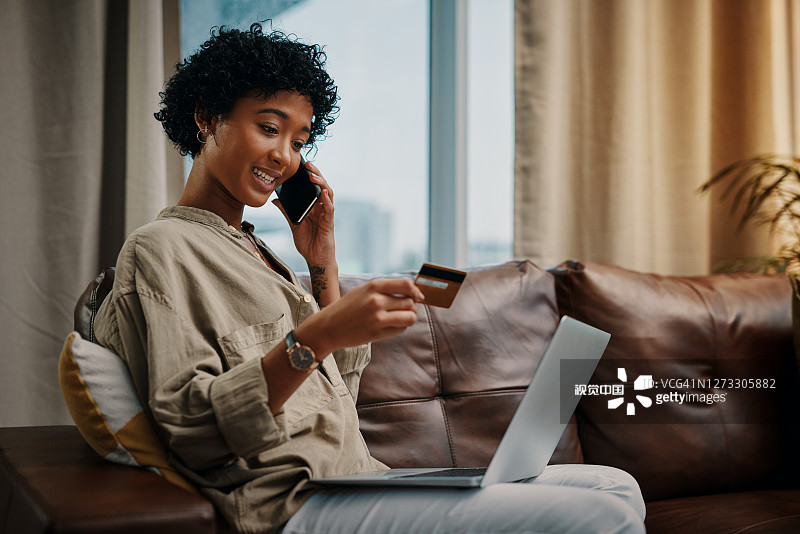calling: (267, 151, 359, 264)
no-phone: (306, 260, 478, 361)
